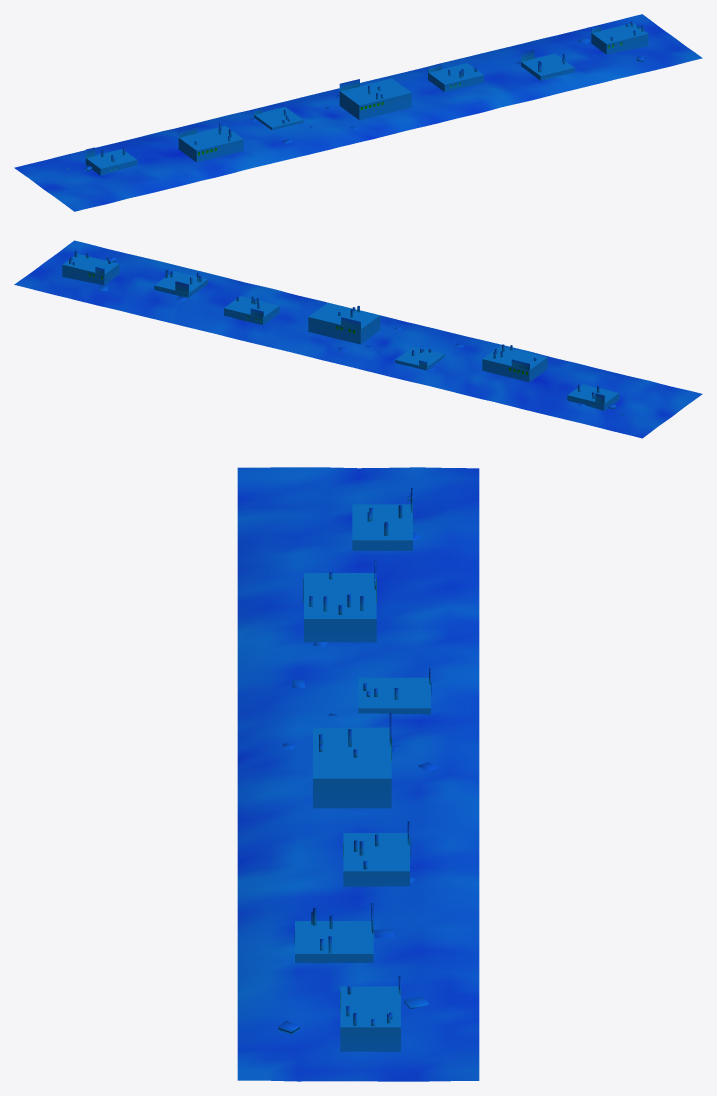
Rendered from reef_edge_far.glb.
The picture shows the model from 3 angles, top to bottom: view 1: azimuth 30°, elevation 25°; view 2: azimuth 150°, elevation 25°; view 3: azimuth 270°, elevation 25°; orthographic projection. The views are drawn at different scales.
Visible parts, largest first — view 1: reef_edge_far; view 2: reef_edge_far; view 3: reef_edge_far.
Boxes of the visible parts, bbox=[...] form: reef_edge_far: bbox=[14, 14, 702, 211]; reef_edge_far: bbox=[14, 240, 702, 438]; reef_edge_far: bbox=[237, 467, 479, 1081].
Size of what is drawn, in the model's own units: 240 by 9.78 by 40.
